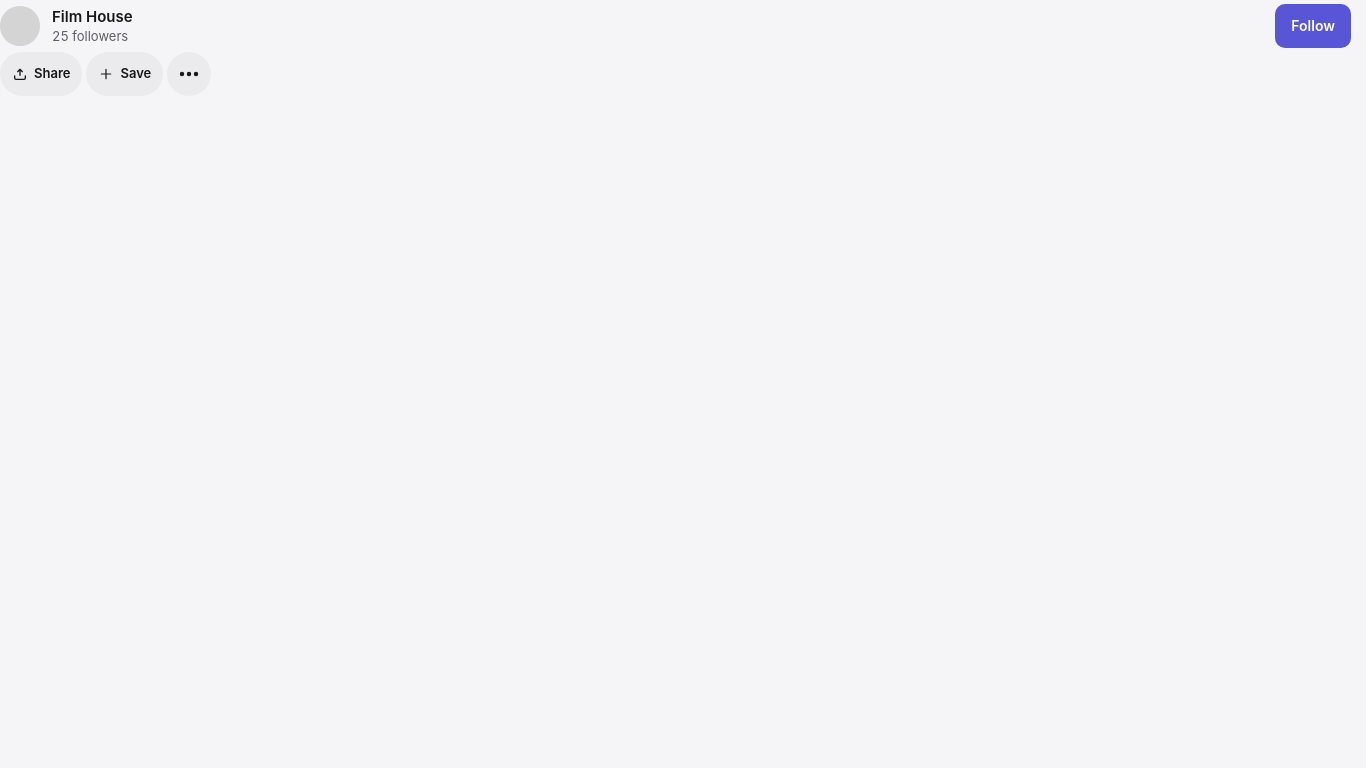
it: keeps Save to playlist in More with the same sign-in gate
The width and height of the screenshot is (1366, 768).
Click the button named "More actions" at (189, 74), box [167,52,211,96]
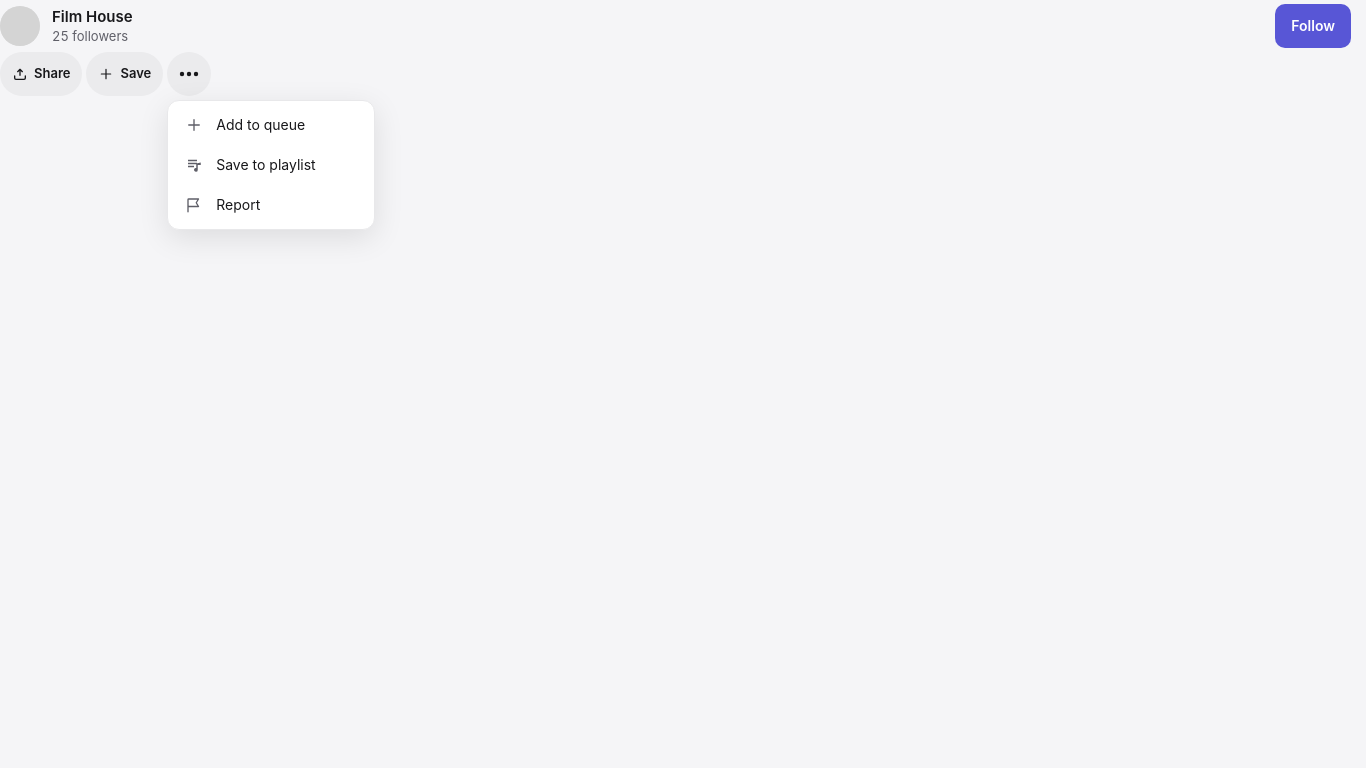
Click the menu item "Save to playlist" at (271, 165), box [172,145,370,185]
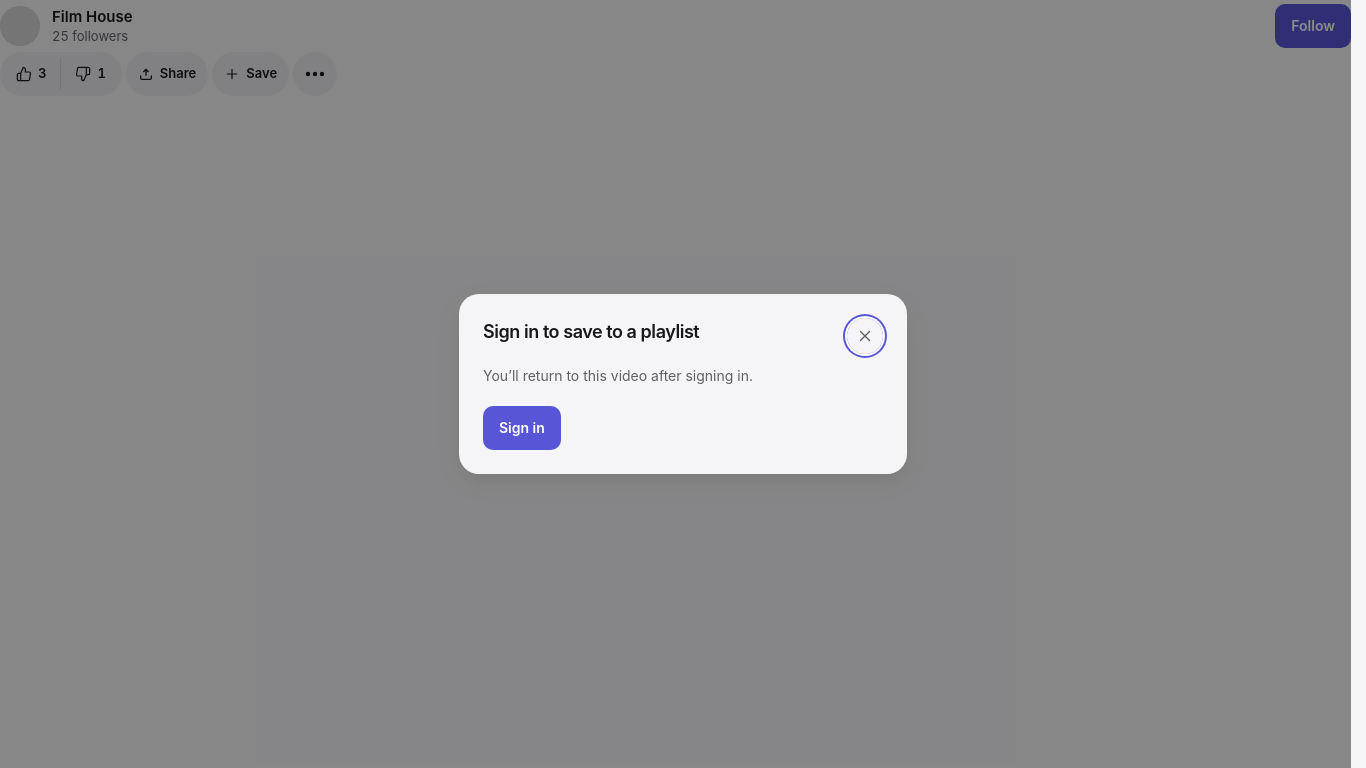
Now the dialog "Sign in to save to a playlist" is shown, box [459,294,907,474]
